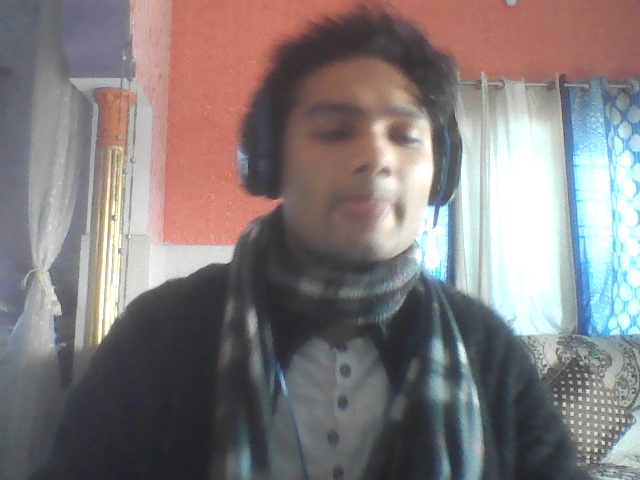real: (256, 5, 448, 277)
